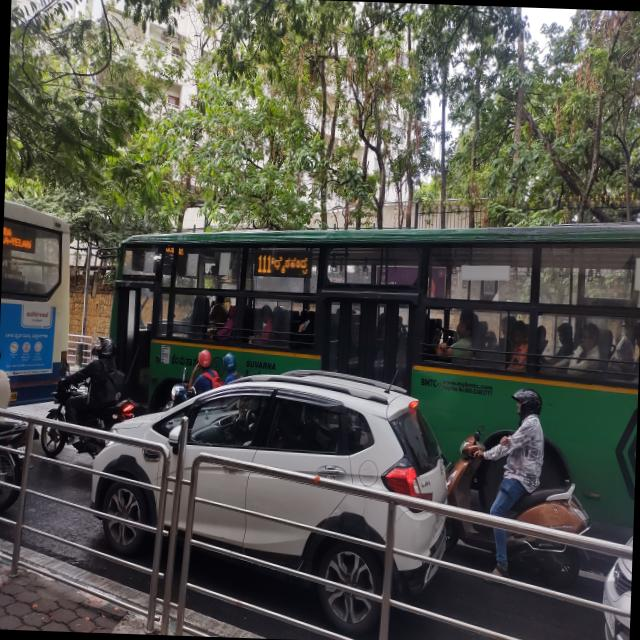bus: (98, 210, 640, 437), (0, 187, 83, 422)
display: (247, 242, 313, 282), (2, 215, 36, 258)
dnumber: (252, 247, 276, 280)
